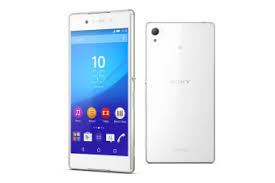sony: (65, 9, 137, 176), (145, 21, 217, 165)
